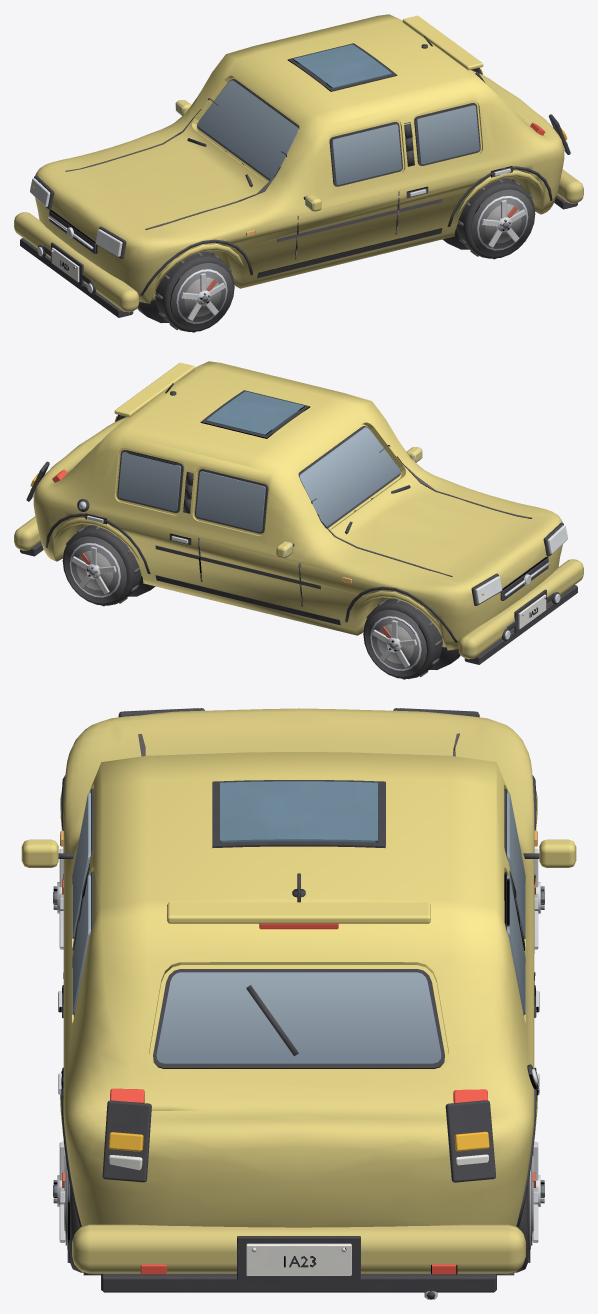
The model's file is Rig_CarYellow.fbx.
3 views of the same model, one above another, from view 1: azimuth 30°, elevation 25°; view 2: azimuth 150°, elevation 25°; view 3: azimuth 270°, elevation 25° (orthographic). The views are drawn at different scales.
Visible parts, largest first — view 1: Transito_CarYellow__Body, Transito_CarYellow__Wheel_F_L, Transito_CarYellow__Wheel_R_L; view 2: Transito_CarYellow__Body, Transito_CarYellow__Wheel_F_R, Transito_CarYellow__Wheel_R_R; view 3: Transito_CarYellow__Body, Transito_CarYellow__Wheel_R_L, Transito_CarYellow__Wheel_R_R.
Part boxes in pixels (box(x1,y1,x2,y2)): Transito_CarYellow__Body: box(14, 14, 583, 323); Transito_CarYellow__Wheel_F_L: box(155, 251, 234, 332); Transito_CarYellow__Wheel_R_L: box(456, 178, 535, 259); Transito_CarYellow__Body: box(14, 361, 583, 670); Transito_CarYellow__Wheel_F_R: box(363, 598, 442, 679); Transito_CarYellow__Wheel_R_R: box(62, 525, 141, 606); Transito_CarYellow__Body: box(21, 708, 576, 1299); Transito_CarYellow__Wheel_R_L: box(53, 1142, 100, 1275); Transito_CarYellow__Wheel_R_R: box(497, 1142, 544, 1275).
Bounding box in the file's own units: 4.13 × 1.62 × 2.1.
